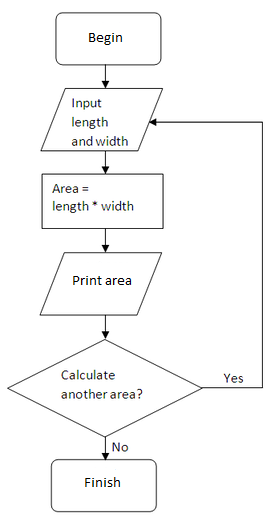arrow: (147, 117, 266, 390), (100, 316, 111, 340), (101, 433, 111, 457), (99, 229, 109, 252), (100, 151, 110, 173), (100, 66, 109, 87)
data: (40, 86, 165, 154), (40, 251, 163, 317)
decision: (7, 340, 200, 437)
process: (39, 172, 166, 230), (54, 10, 163, 67), (49, 458, 158, 513)
text: (68, 97, 131, 146), (50, 181, 135, 214), (59, 369, 143, 401), (70, 273, 132, 286), (82, 476, 123, 490), (86, 30, 123, 45), (109, 440, 129, 453), (221, 372, 243, 383)
